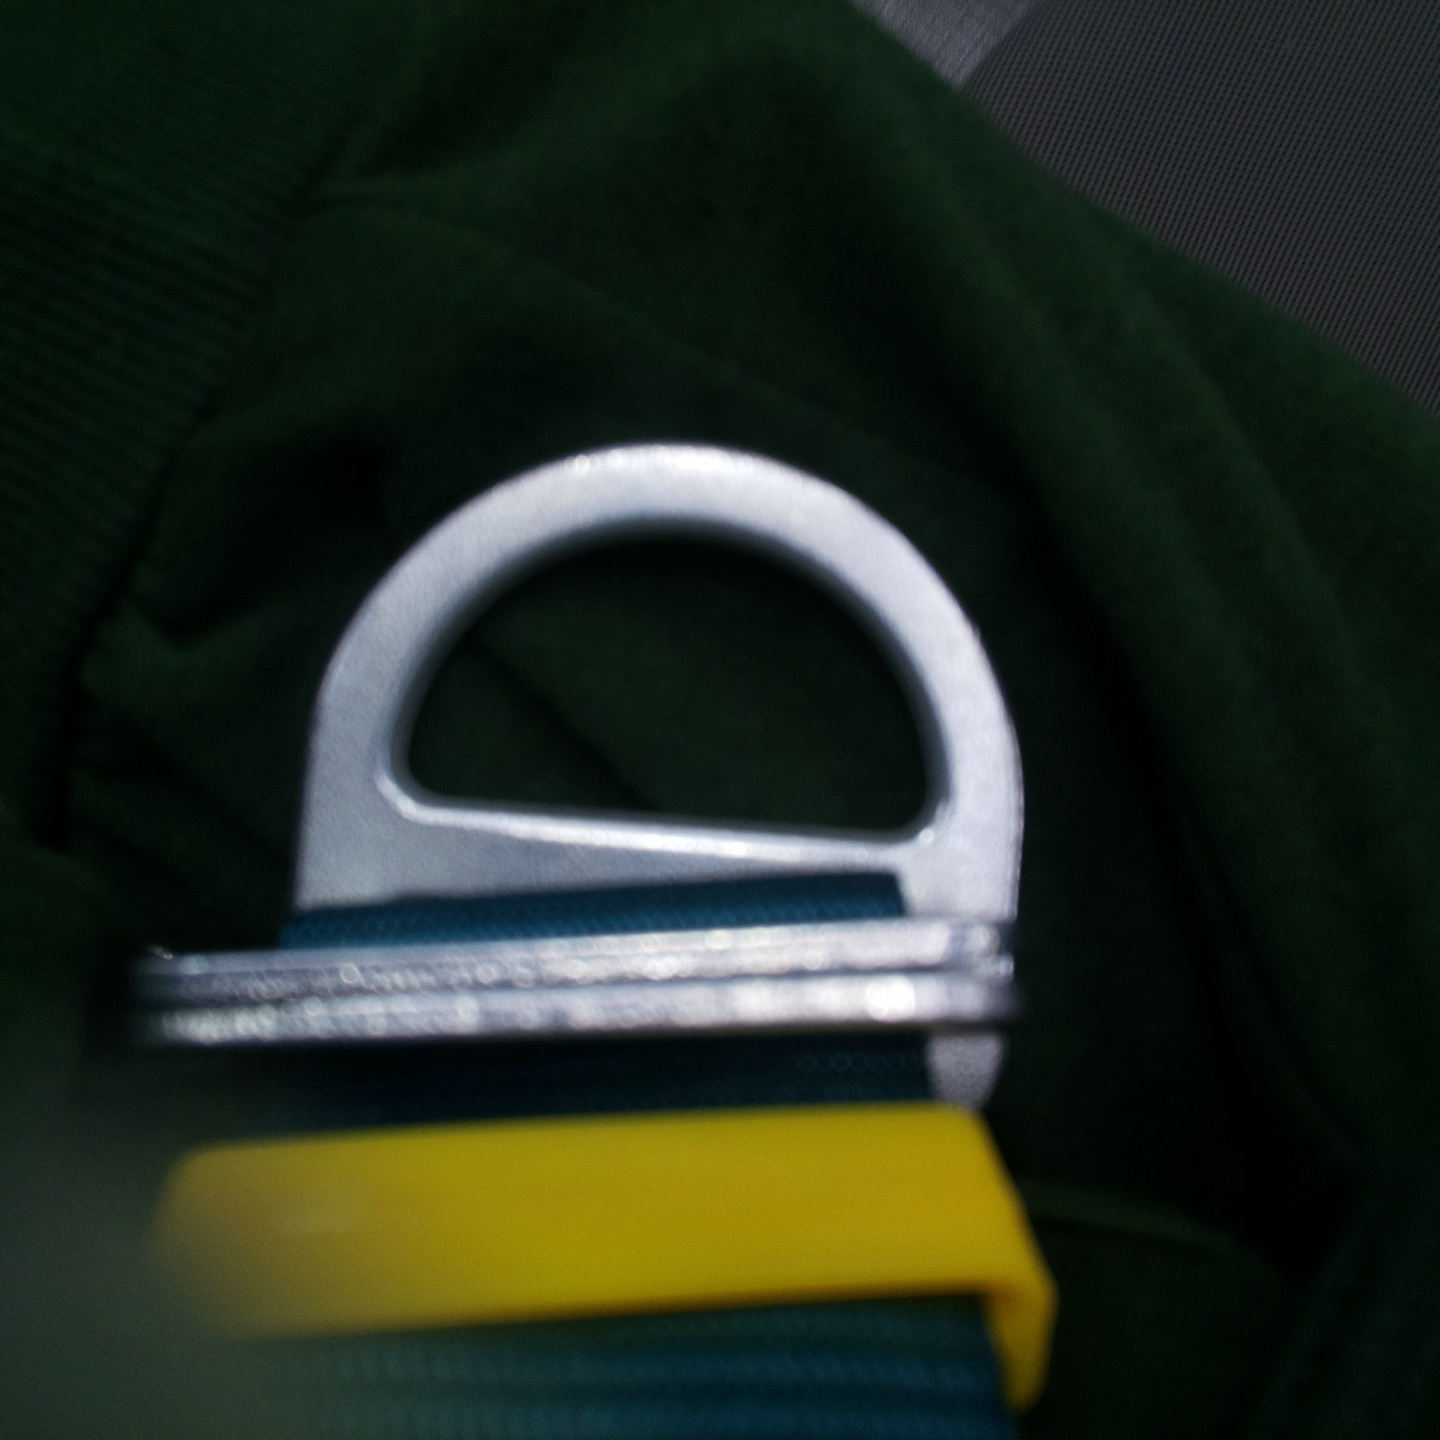UNSUCCESS: (298, 440, 1029, 916)
